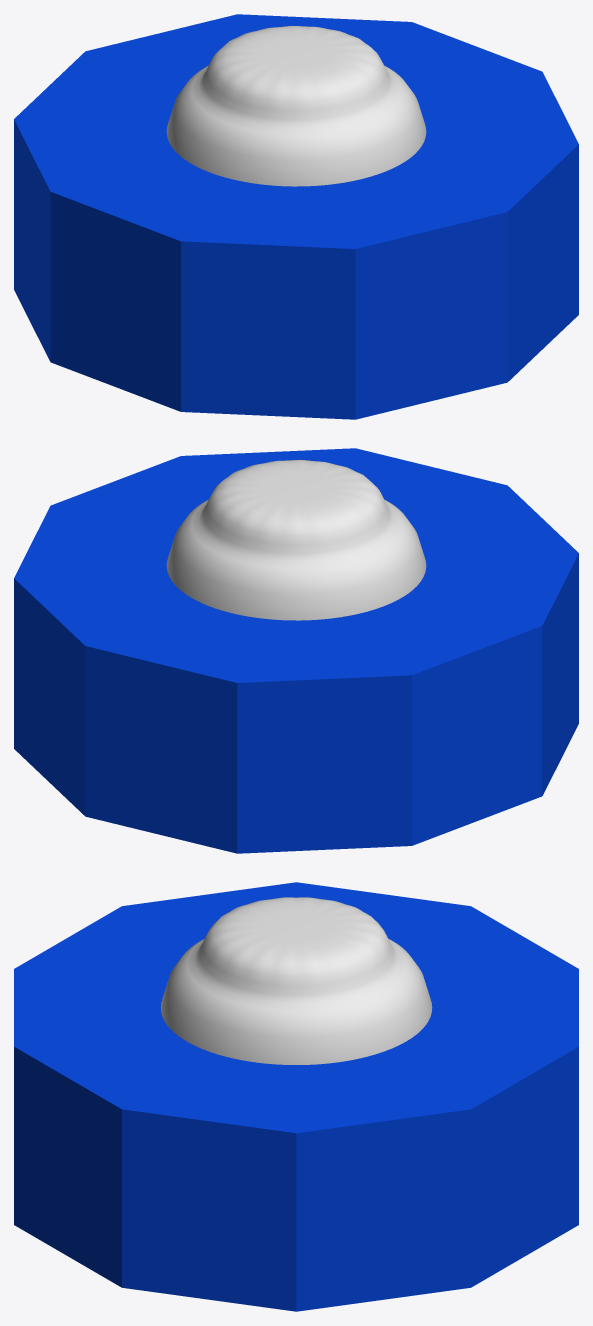
File: 1BarConnector.fbx
3 views of the same model, one above another, from view 1: azimuth 30°, elevation 25°; view 2: azimuth 150°, elevation 25°; view 3: azimuth 270°, elevation 25° (orthographic). The views are drawn at different scales.
Parts seen in each view (by area): view 1: pCylinder2, pCylinder3; view 2: pCylinder2, pCylinder3; view 3: pCylinder2, pCylinder3.
Part boxes in pixels (x1,y1,x2,y2): pCylinder2: (14,14,578,419); pCylinder3: (166,25,426,186); pCylinder2: (14,448,578,853); pCylinder3: (166,459,426,620); pCylinder2: (14,882,578,1311); pCylinder3: (160,897,432,1064).
Bounding box in the file's own units: 1.41 × 0.7857 × 1.34.
